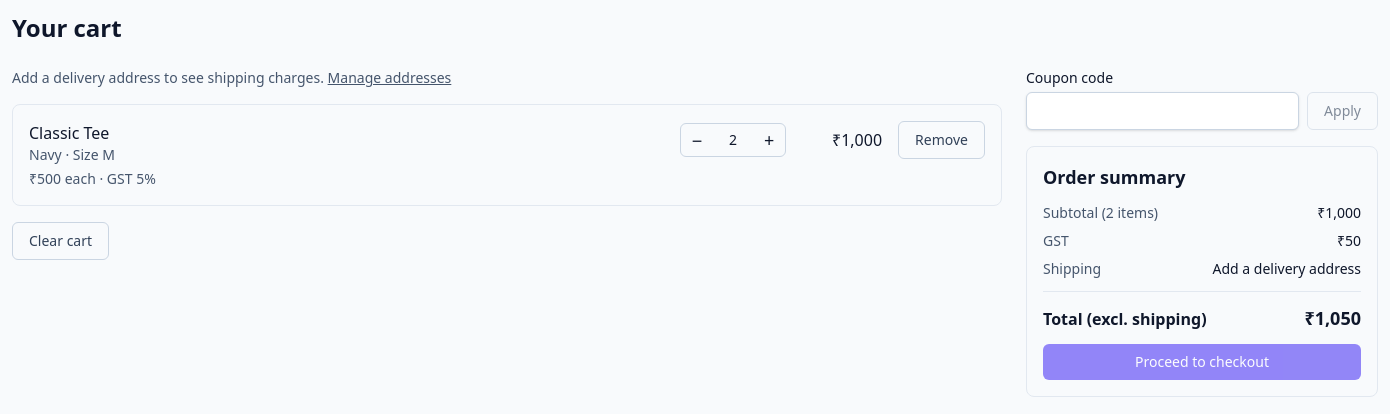
Test: CartPage › removes an item
This screenshot has width=1390, height=414.
Click the button with aria-label "Remove Classic Tee". click: {"x": 942, "y": 140}
box: [898, 121, 985, 159]
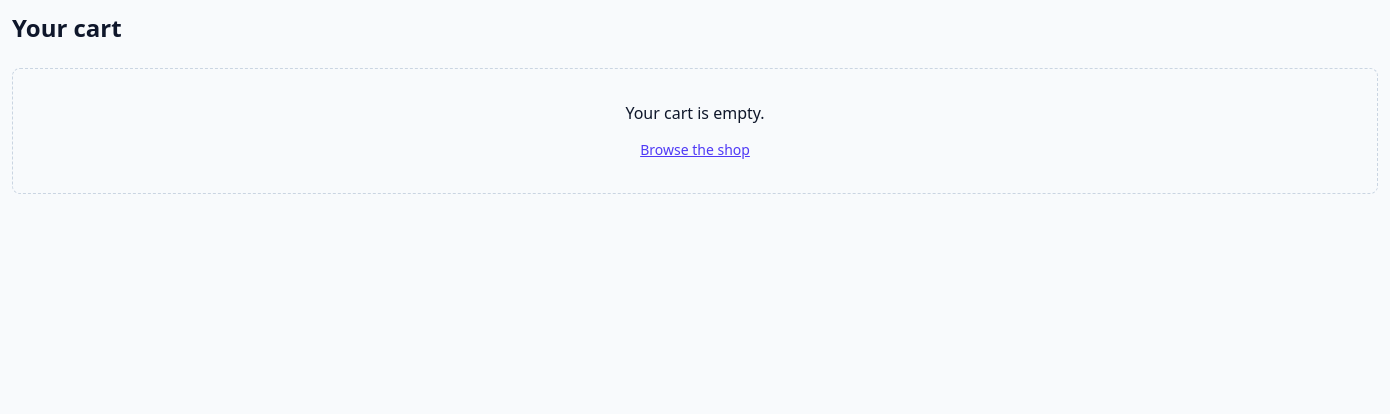
Now the text "Your cart is empty." is shown, box [625, 102, 765, 124]
